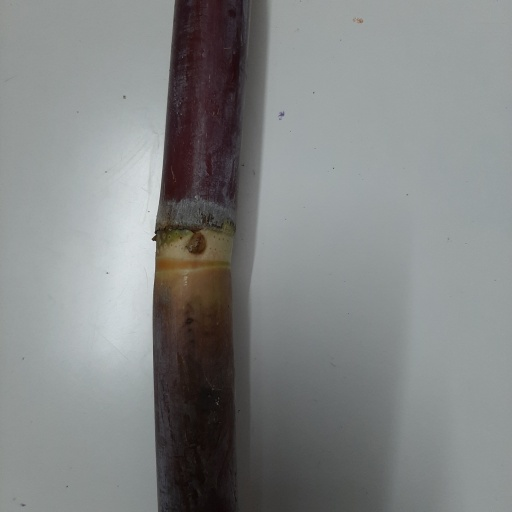Bud: (186, 231, 205, 254)
